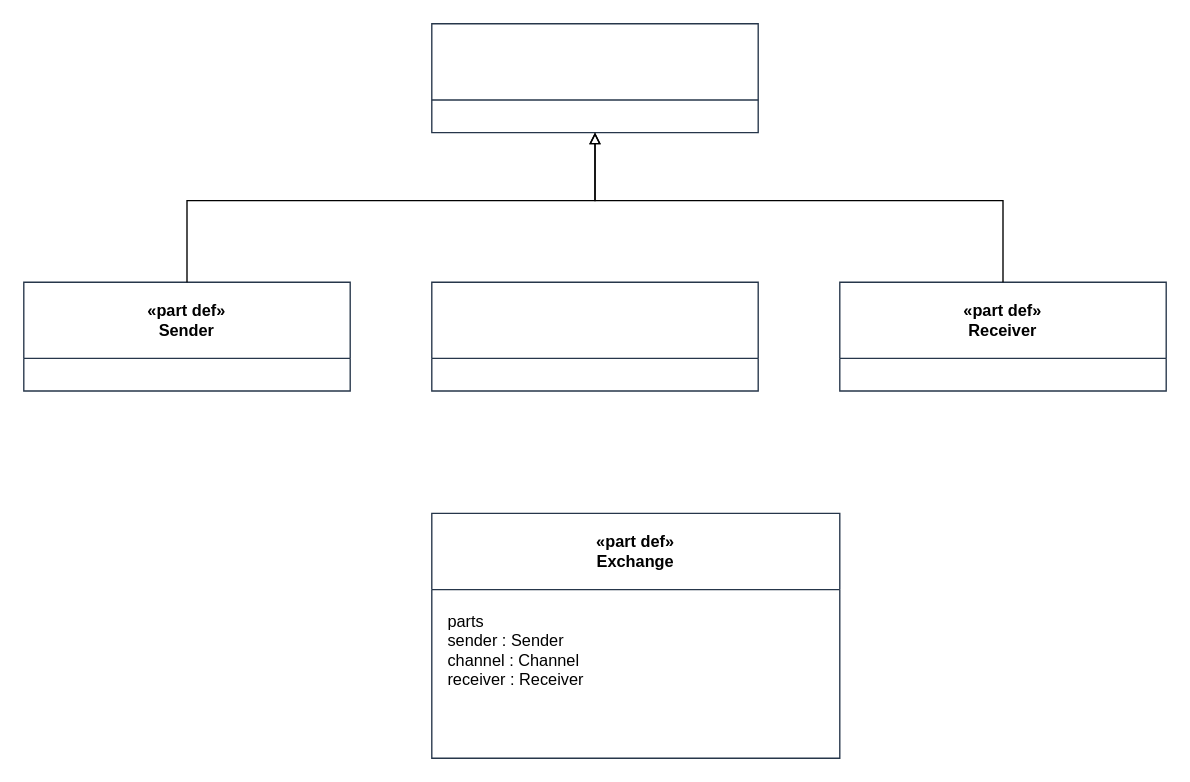
Image size: 1190x782. Some labels were removed from this diagram. Each missing label, with the box of its shape:
«part def» Channel: (430, 281, 758, 391)
«part def» Participant: (430, 22, 758, 133)
